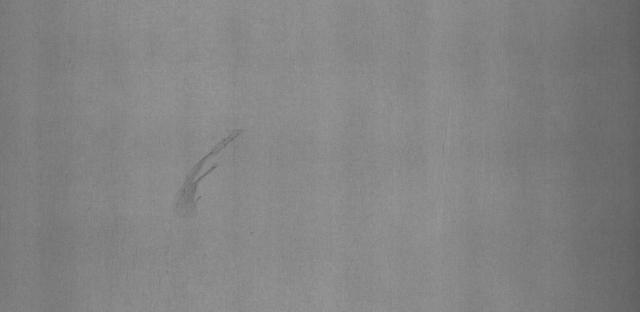water_spot: (168, 120, 256, 229)
